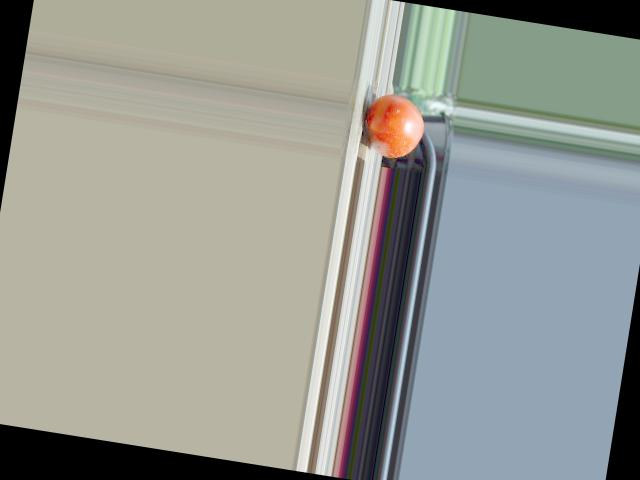tomato: (362, 90, 429, 161)
